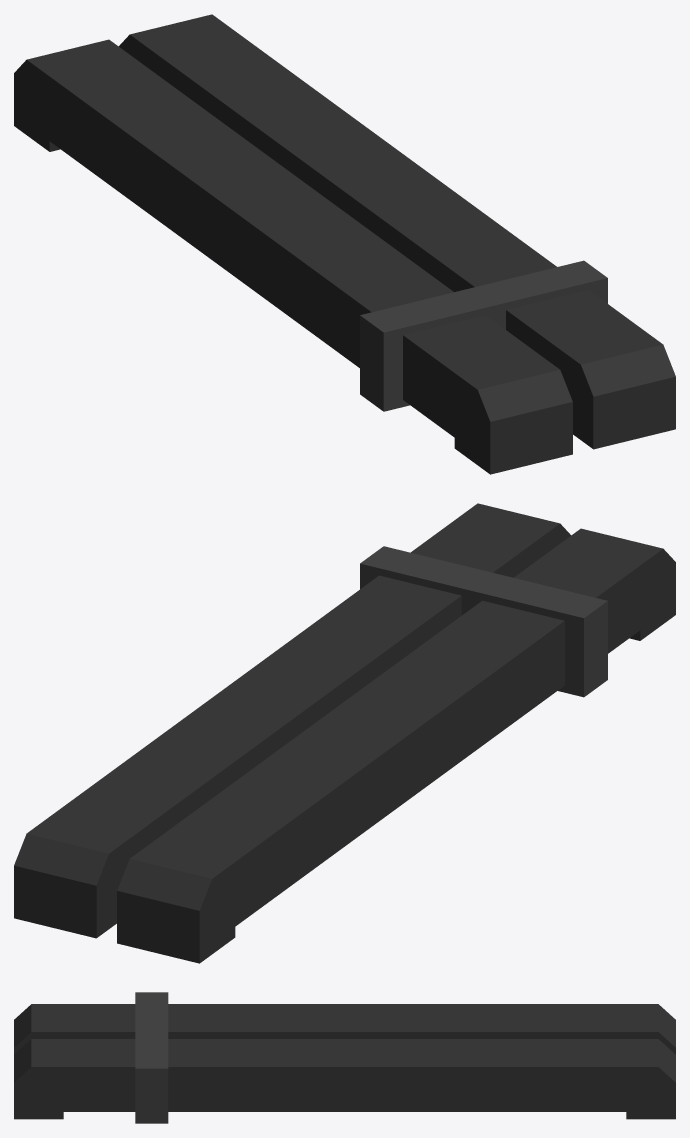
Rendered from HJD_SFB_Cable_03.fbx.
3 views of the same model, one above another, from view 1: azimuth 30°, elevation 25°; view 2: azimuth 150°, elevation 25°; view 3: azimuth 270°, elevation 25° (orthographic). The views are drawn at different scales.
Parts seen in each view (by area): view 1: HJD_SFB_Asset; view 2: HJD_SFB_Asset; view 3: HJD_SFB_Asset.
Part boxes in pixels (<box>): HJD_SFB_Asset: <box>14,14,675,474</box>; HJD_SFB_Asset: <box>14,503,675,963</box>; HJD_SFB_Asset: <box>14,992,675,1123</box>.
Size of the model in its own units: 32.6 by 11.5 by 120.
